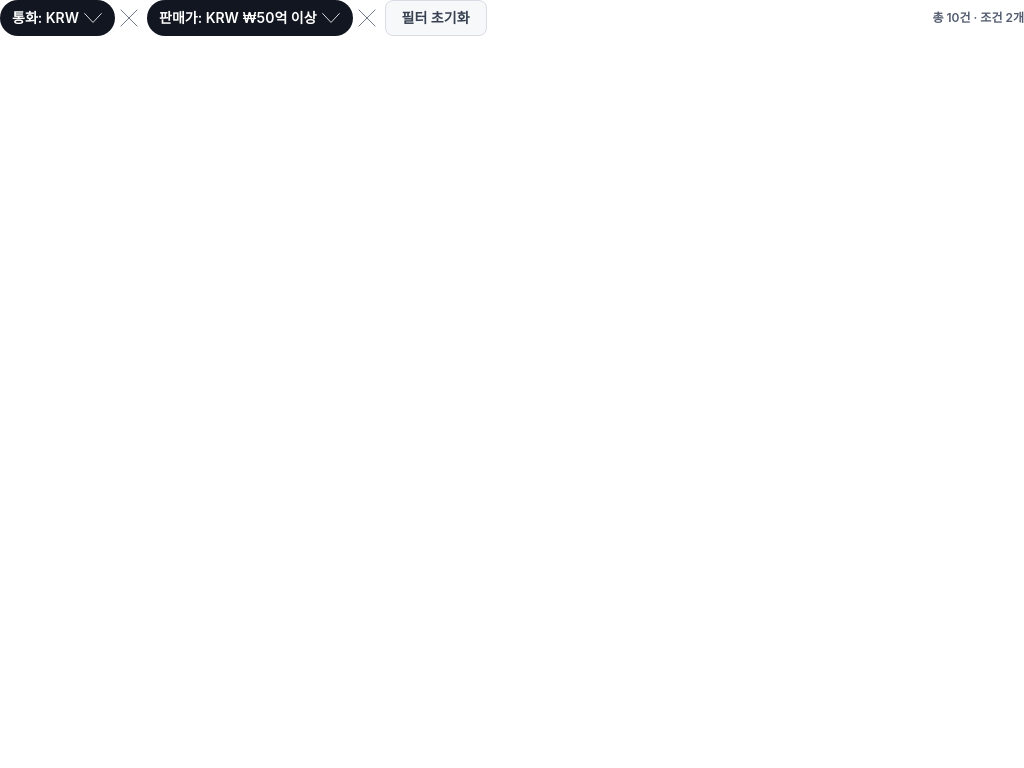
Test: 옛 URL·범위 밖 값 (§7.5) › 포커스만 왔다 가면(blur) 아무것도 다시 기록하지 않는다
Click the button "판매가: KRW ₩50억 이상".
click(250, 18)  # box [147,0,353,36]
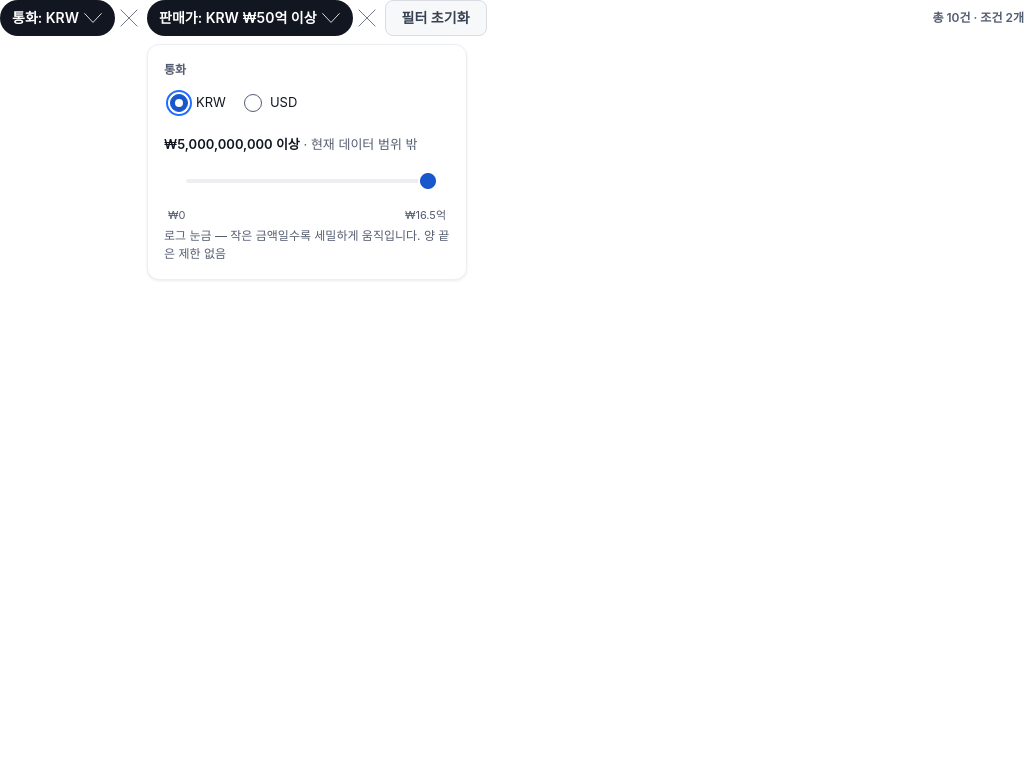
Now the element showing "₩5,000,000,000 이상 · 현재 데이터 범위 밖" is shown, box [164,135,450,154]
